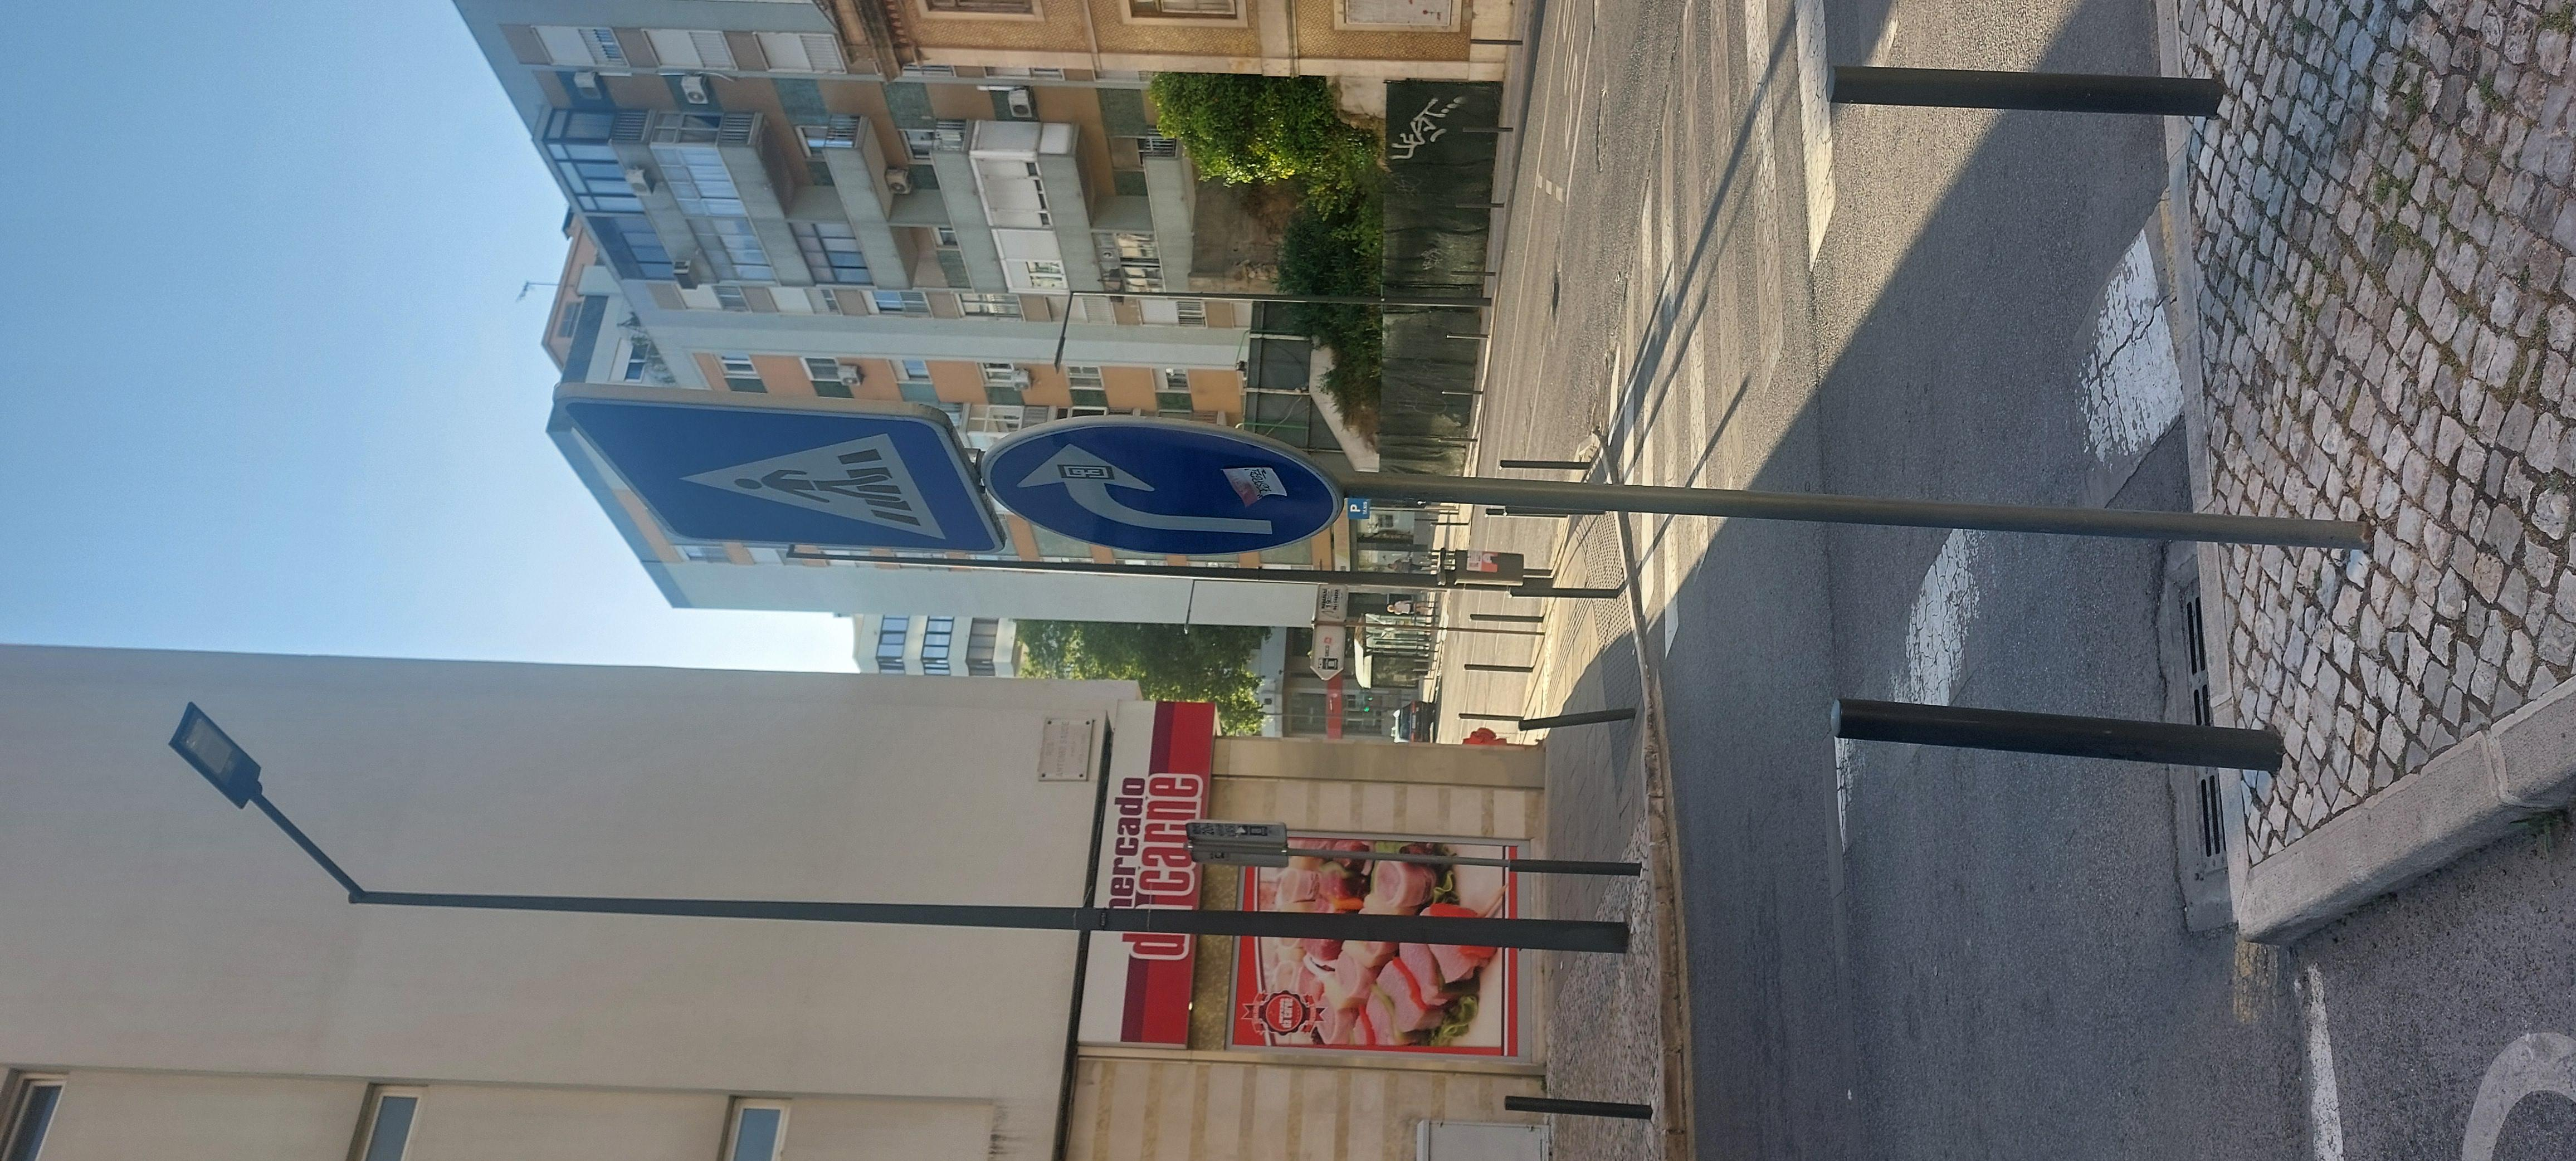passagem para peoes: (1335, 258, 1696, 455)
sentido obrigatorio: (1334, 445, 1664, 612)
